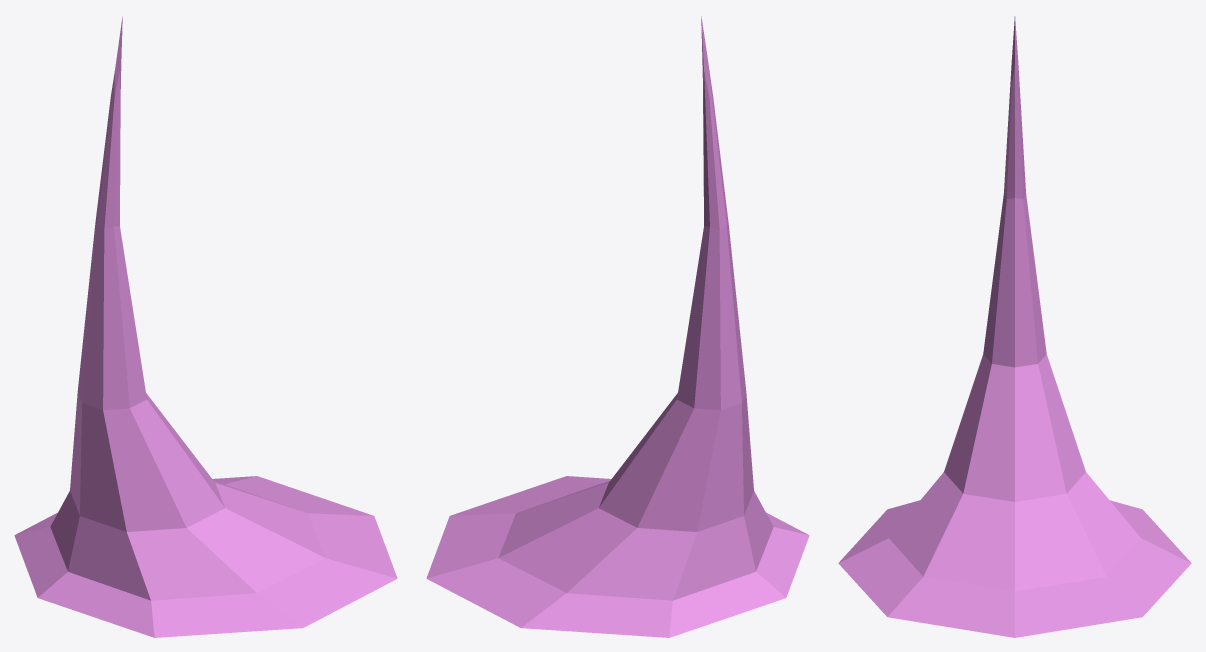
Rendered from Spine 04.fbx.
3 renders of one model, left to right at view 1: azimuth 30°, elevation 25°; view 2: azimuth 150°, elevation 25°; view 3: azimuth 270°, elevation 25°, orthographic. The views are drawn at different scales.
Visible parts, largest first — view 1: Spine 04; view 2: Spine 04; view 3: Spine 04.
Boxes of the visible parts, left/top/right/bottom form: Spine 04: left=14, top=16, right=397, bottom=637; Spine 04: left=426, top=16, right=809, bottom=637; Spine 04: left=838, top=16, right=1191, bottom=637.
Size of the model in its own units: 40.82 by 65.59 by 40.82.
